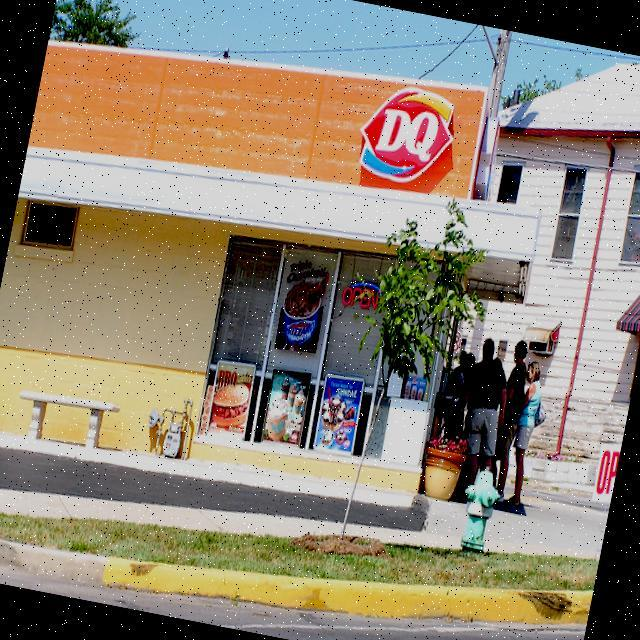fire_hydrant: (454, 463, 505, 553)
